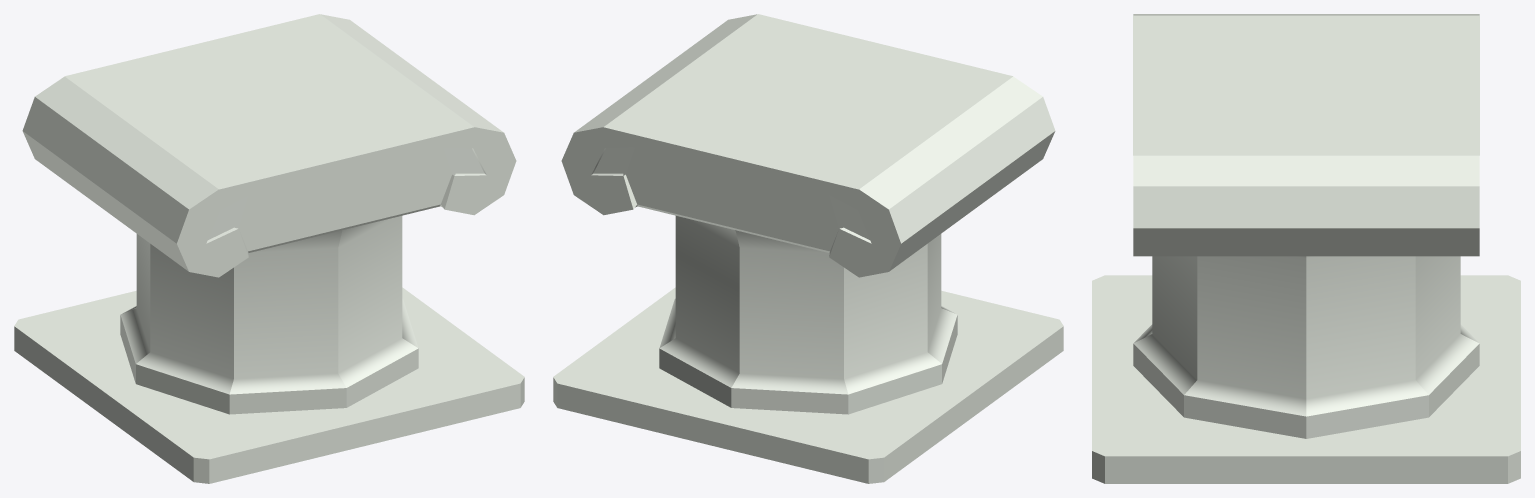
Rendered from plinth.fbx.
The picture shows the model from 3 angles, left to right: view 1: azimuth 30°, elevation 25°; view 2: azimuth 150°, elevation 25°; view 3: azimuth 270°, elevation 25°; orthographic projection. The views are drawn at different scales.
Visible parts, largest first — view 1: pCylinder6; view 2: pCylinder6; view 3: pCylinder6.
Part boxes in pixels (bbox=[...]): pCylinder6: bbox=[14, 14, 524, 483]; pCylinder6: bbox=[553, 14, 1063, 483]; pCylinder6: bbox=[1092, 14, 1520, 483].
Size of the model in its own units: 8.06 by 6.22 by 7.85.
Materials: 1 (1 with a texture image).
